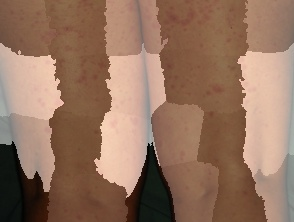SJS-TEN: (135, 0, 294, 222), (0, 0, 155, 222)
